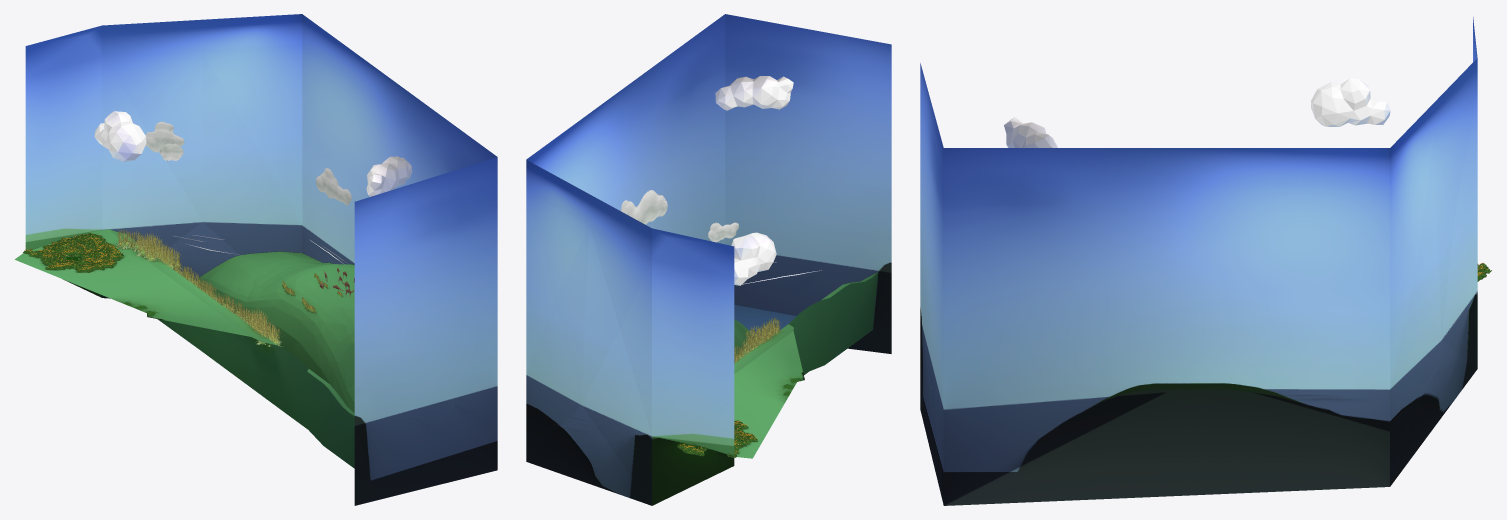
File: scene3end.glb
3 renders of one model, left to right at view 1: azimuth 30°, elevation 25°; view 2: azimuth 150°, elevation 25°; view 3: azimuth 270°, elevation 25°, orthographic. The views are drawn at different scales.
Size of the model in its own units: 17.72 by 20.1 by 29.12.
Materials: 7 (7 with a texture image).
